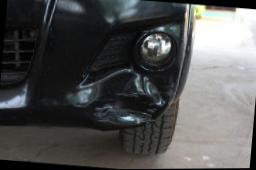Bumper: (34, 35, 178, 138)
